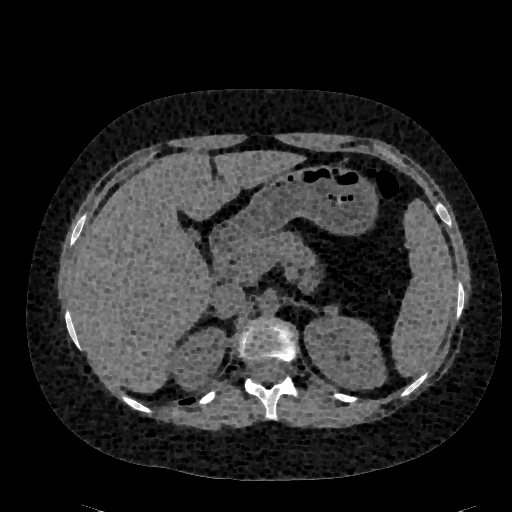Lesion: (319, 300, 343, 322)
